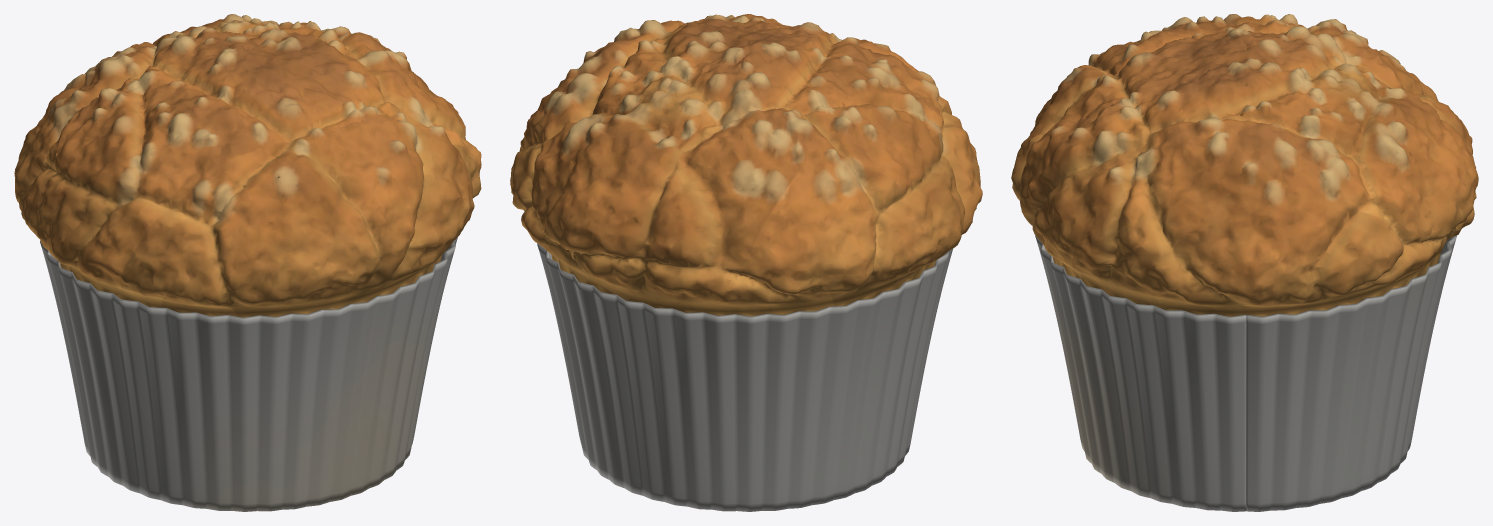
File: muffin-hd.glb
The picture shows the model from 3 angles, left to right: view 1: azimuth 30°, elevation 25°; view 2: azimuth 150°, elevation 25°; view 3: azimuth 270°, elevation 25°; orthographic projection.
Visible parts, largest first — view 1: Muffin_Copa, Muffin_Capsula; view 2: Muffin_Copa, Muffin_Capsula; view 3: Muffin_Copa, Muffin_Capsula.
Part boxes in pixels (x1,y1,x2,y2): Muffin_Copa: (14,14,481,317); Muffin_Capsula: (40,237,457,511); Muffin_Copa: (510,14,982,316); Muffin_Capsula: (537,243,953,511); Muffin_Copa: (1011,14,1478,316); Muffin_Capsula: (1035,235,1456,511).
Bounding box in the file's own units: 0.0908 × 0.0849 × 0.0894.
2 materials, 2 textured.
